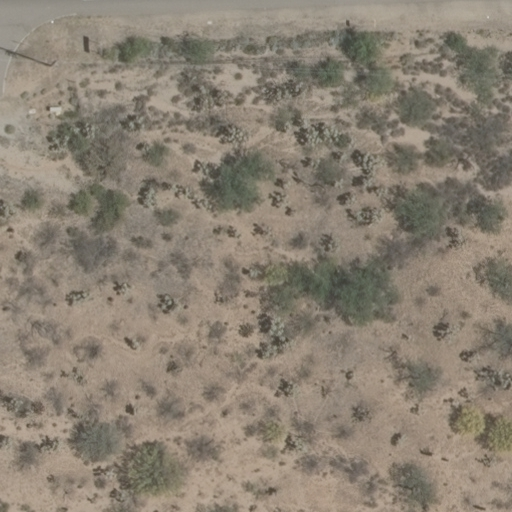DT: (41, 50, 63, 73)
